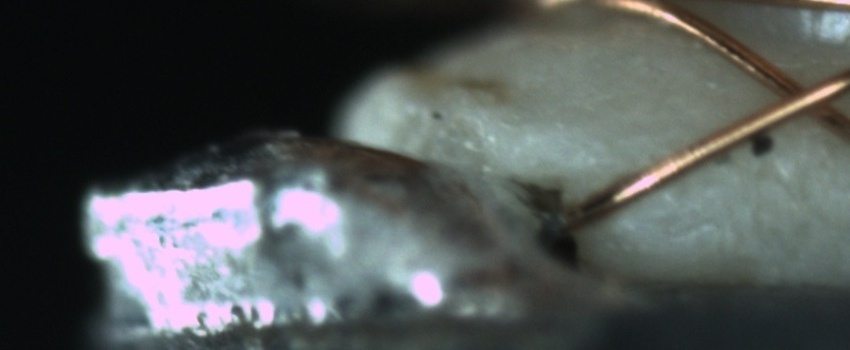CL: (750, 61, 847, 131)
